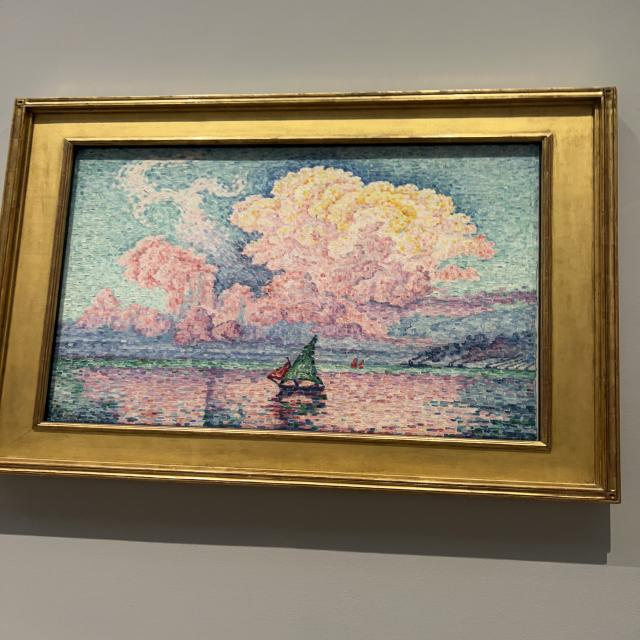sunrise: (47, 159, 535, 432)
